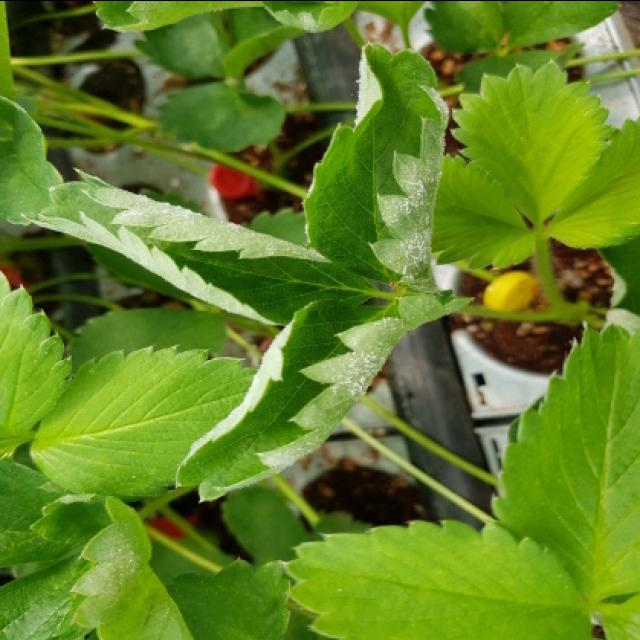Powdery Mildew Leaf: (18, 165, 430, 327), (174, 293, 478, 502), (300, 40, 450, 294), (0, 490, 192, 640)
